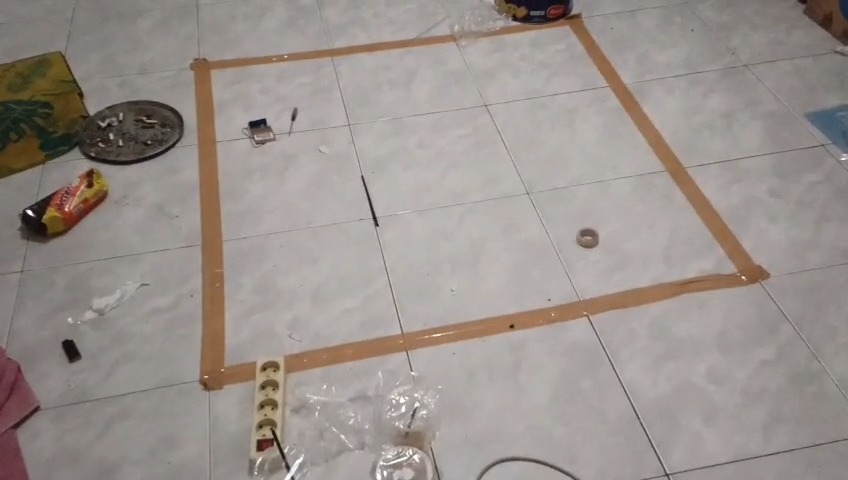floor marking: (287, 18, 768, 370), (192, 35, 452, 390), (649, 139, 666, 156)
